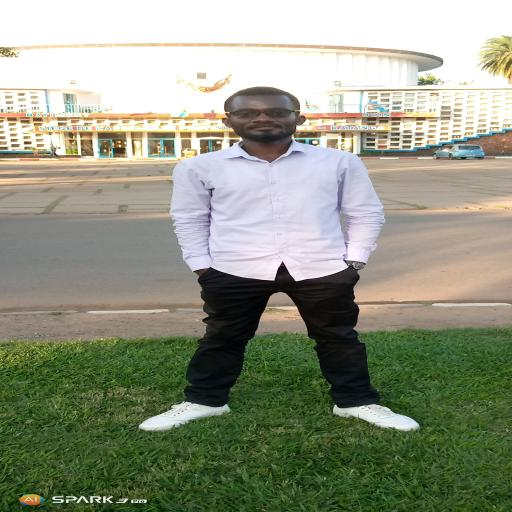MATTHIEU: (211, 81, 320, 155)
